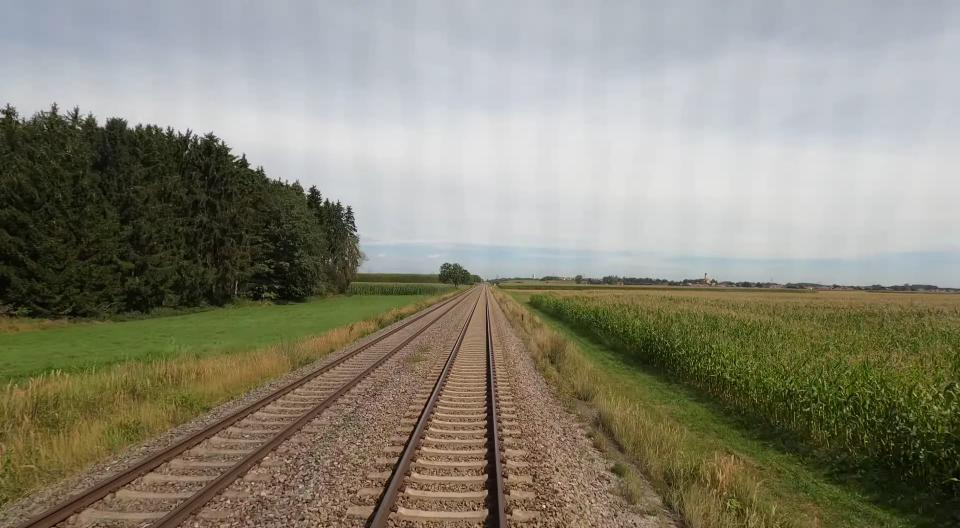Plant: (496, 299, 548, 372), (610, 462, 642, 505), (406, 345, 432, 365), (588, 430, 608, 452)
